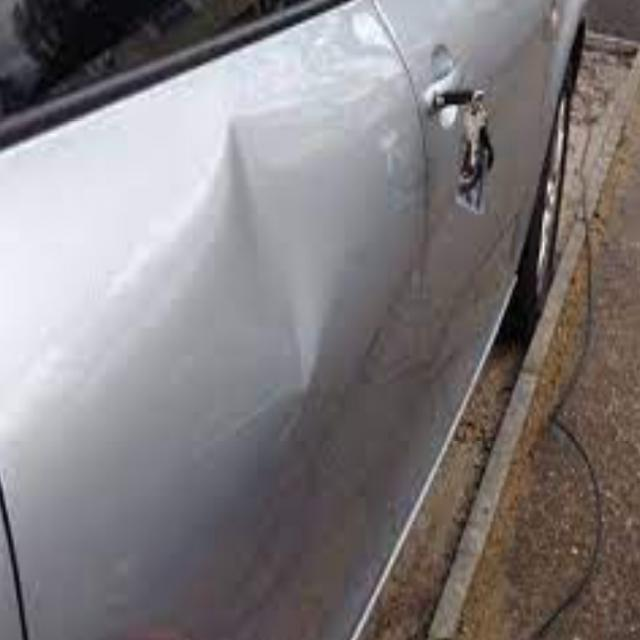dents: (170, 119, 367, 422)
